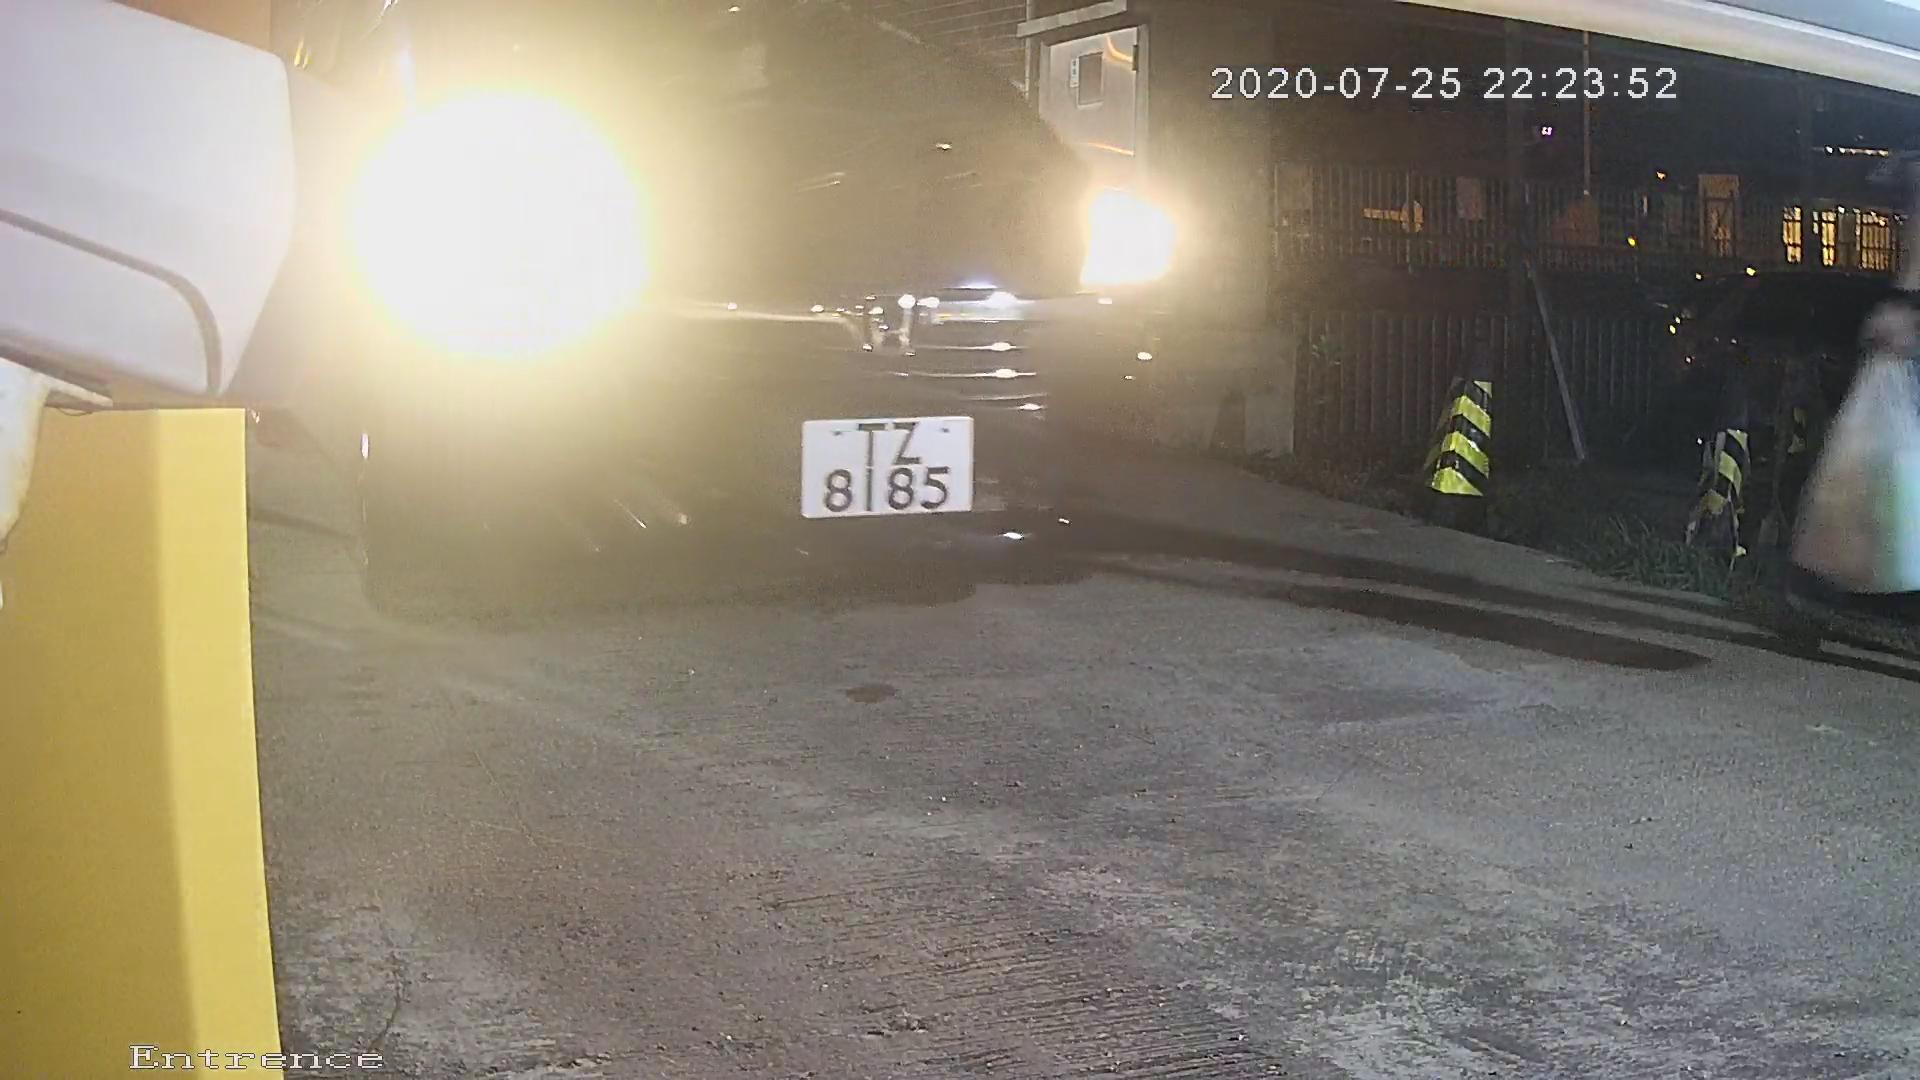License Plate: (755, 406, 995, 526)
